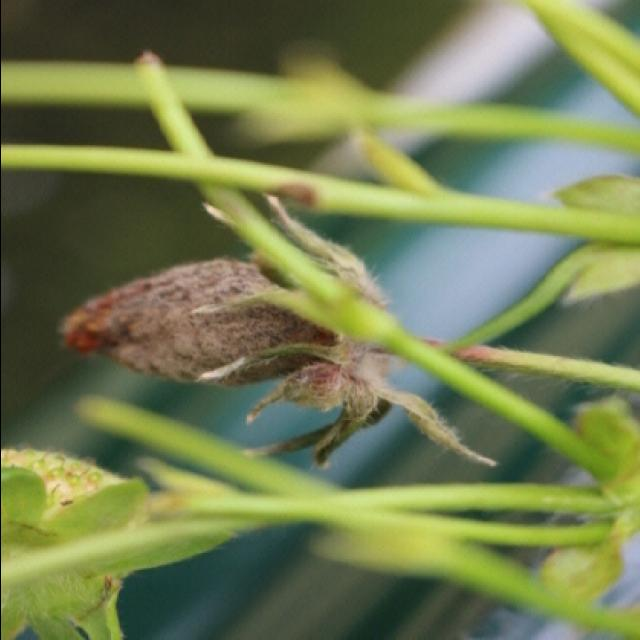Gray Mold: (55, 192, 494, 469)
